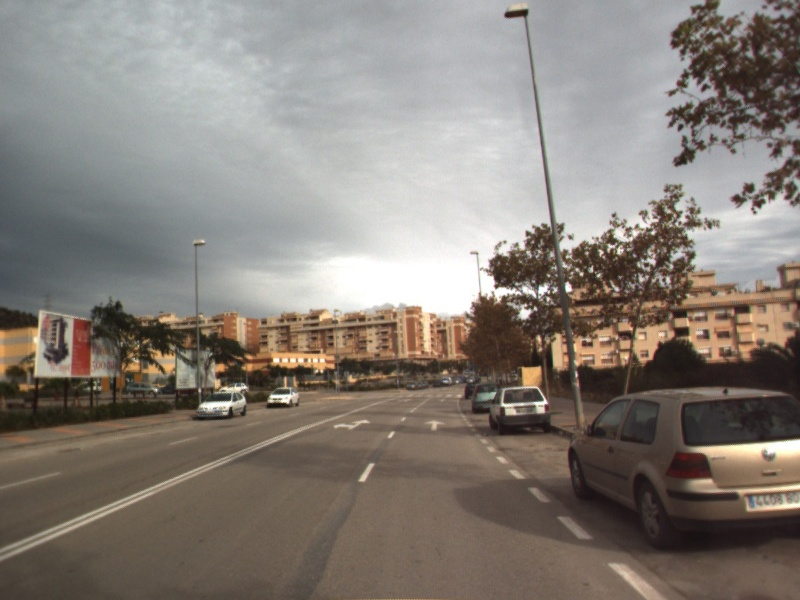STRAIGHT: (423, 418, 448, 433)
STRAIGHT_LEFT: (331, 417, 373, 432)
